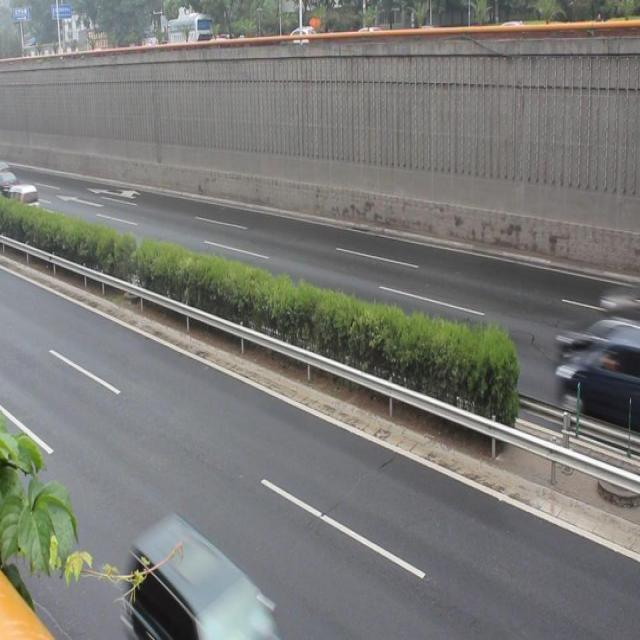car: (127, 507, 315, 640), (549, 313, 640, 435)
